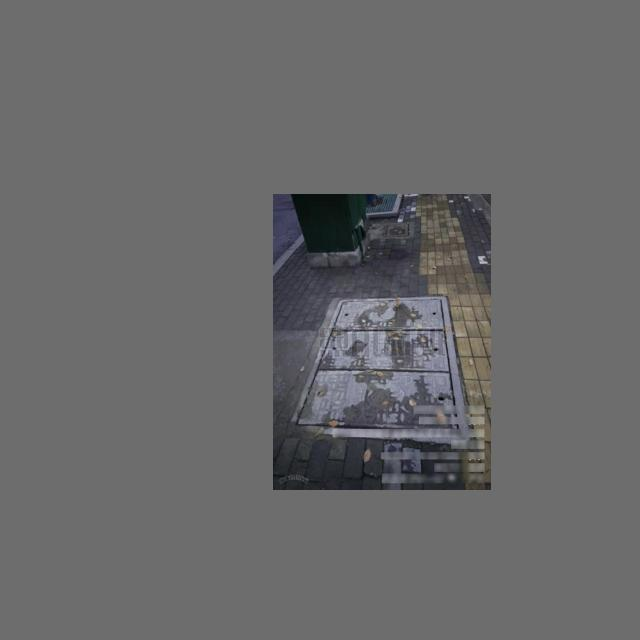good: (291, 295, 471, 442)
